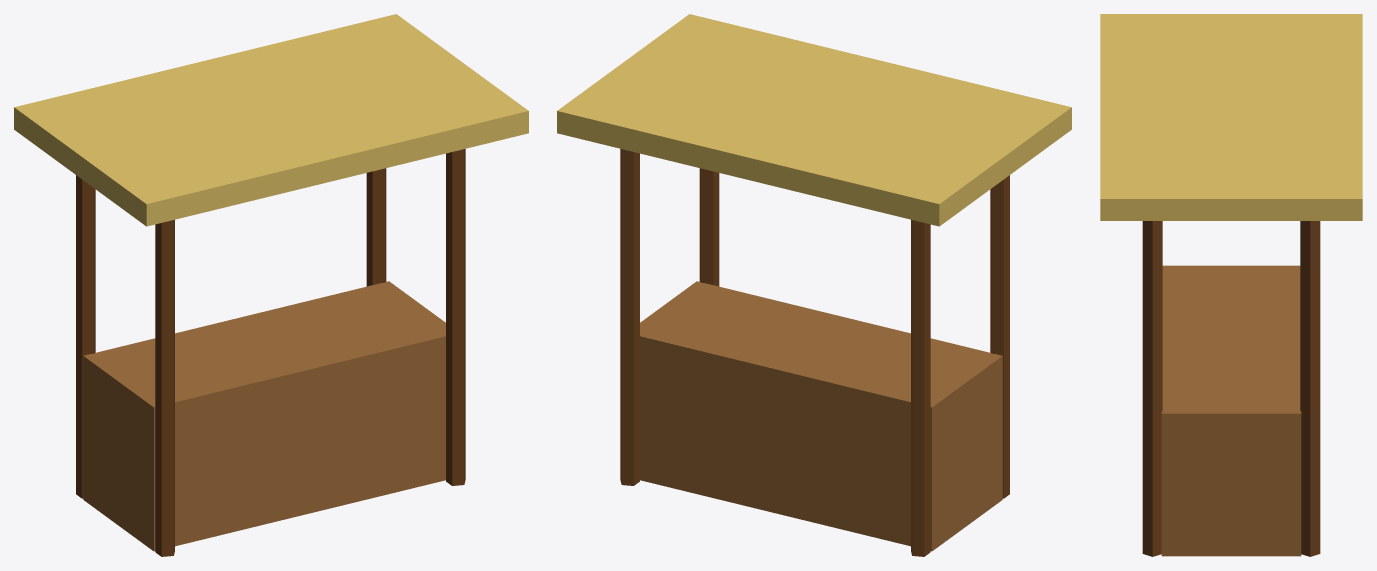
Rendered from stall.glb.
3 views of the same model, side by side, from view 1: azimuth 30°, elevation 25°; view 2: azimuth 150°, elevation 25°; view 3: azimuth 270°, elevation 25° (orthographic).
Visible parts, largest first — view 1: stall; view 2: stall; view 3: stall.
Part boxes in pixels (<box>): stall: <box>14,14,528,556</box>; stall: <box>557,14,1071,556</box>; stall: <box>1100,14,1362,556</box>.
Size of the model in its own units: 2.5 by 2.37 by 1.5.
